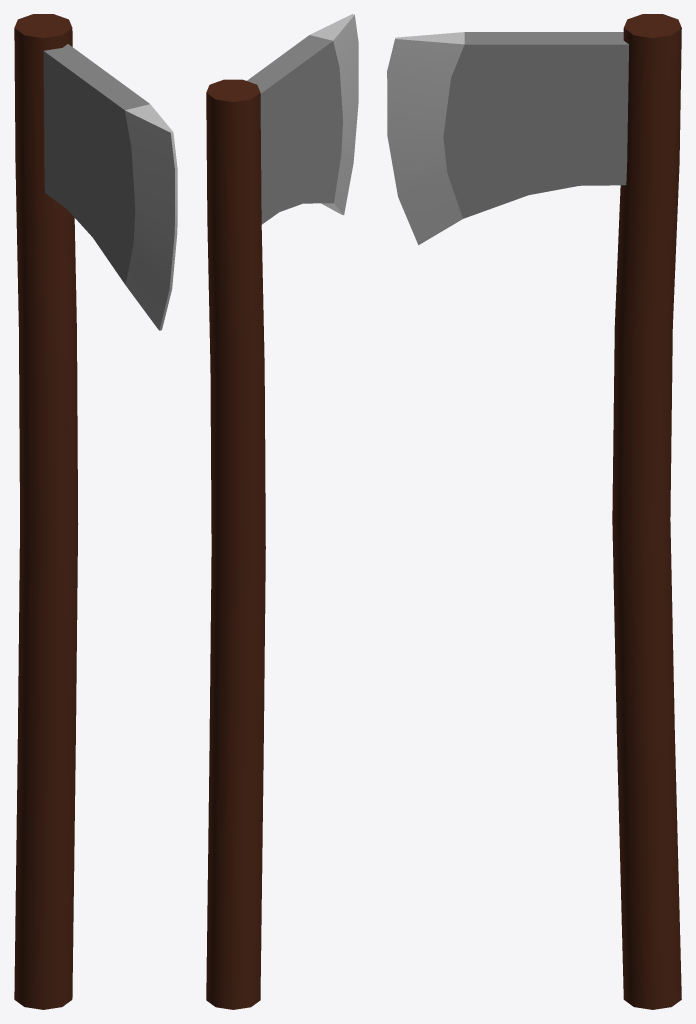
File: Axe.fbx
3 views of the same model, side by side, from view 1: azimuth 30°, elevation 25°; view 2: azimuth 150°, elevation 25°; view 3: azimuth 270°, elevation 25° (orthographic). The views are drawn at different scales.
Parts seen in each view (by area): view 1: pCube2; view 2: pCube2; view 3: pCube2.
Part boxes in pixels (x1,y1,x2,y2): pCube2: (14, 14, 177, 1009); pCube2: (206, 14, 358, 1009); pCube2: (387, 14, 681, 1009).
Size of the model in its own units: 1.94 by 36.36 by 9.99.
